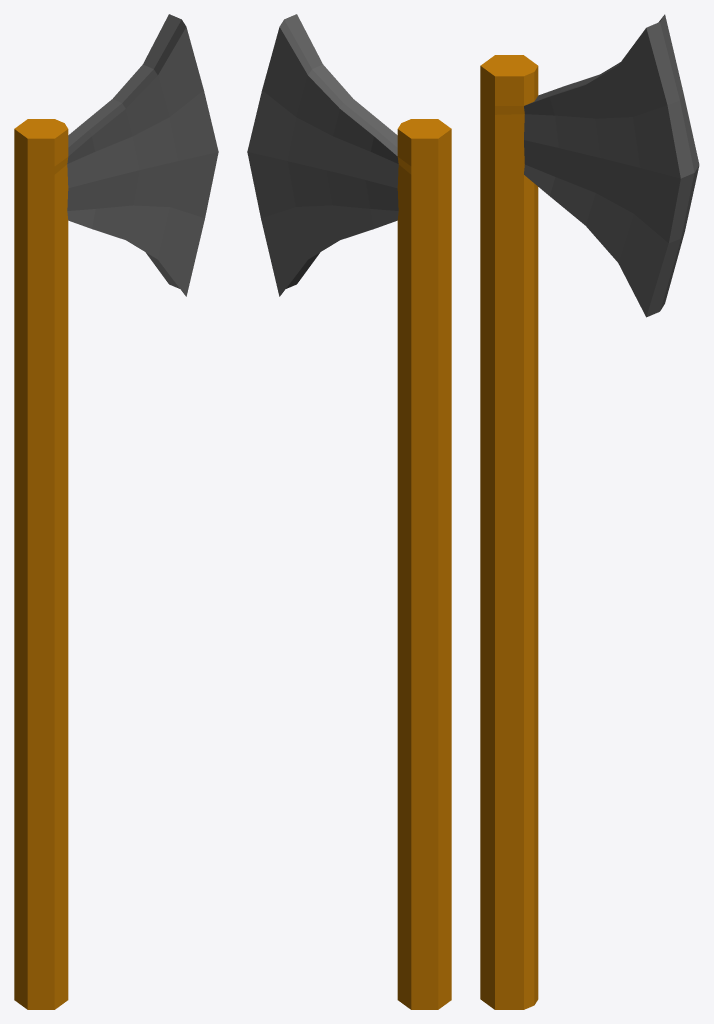
The model's file is BattleAxe_02.fbx.
3 views of the same model, side by side, from view 1: azimuth 30°, elevation 25°; view 2: azimuth 150°, elevation 25°; view 3: azimuth 330°, elevation 25° (orthographic). The views are drawn at different scales.
Visible parts, largest first — view 1: BattleAxe_02; view 2: BattleAxe_02; view 3: BattleAxe_02.
Part boxes in pixels (x1,y1,x2,y2): BattleAxe_02: [14, 14, 218, 1009]; BattleAxe_02: [247, 14, 451, 1009]; BattleAxe_02: [480, 14, 699, 1009].
Bounding box in the file's own units: 15.13 × 70.9 × 3.66.
